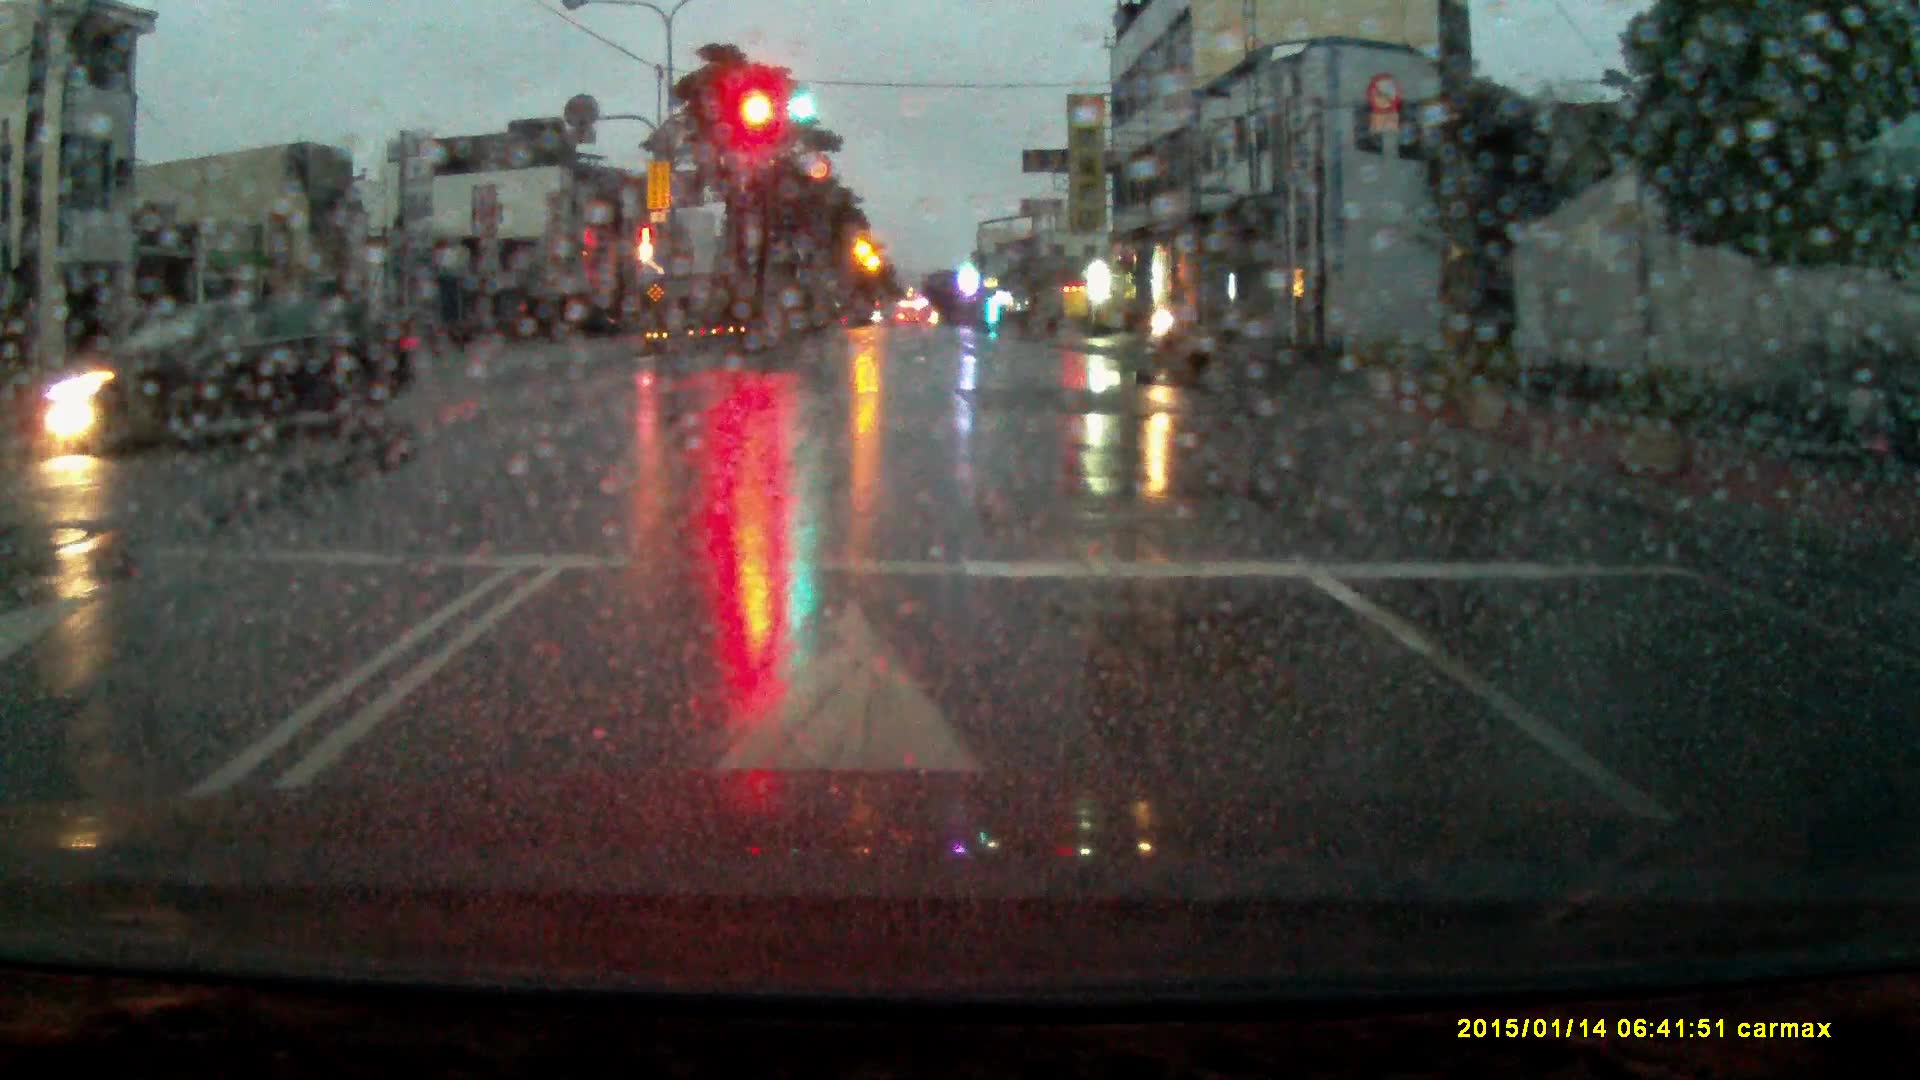rider: (1125, 284, 1212, 374)
vehicle: (45, 292, 396, 460)
